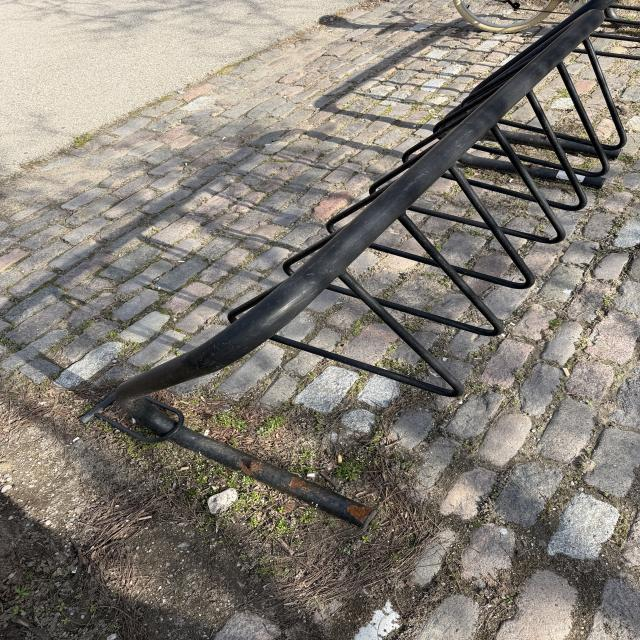Bicycle Rack: (103, 10, 625, 524)
